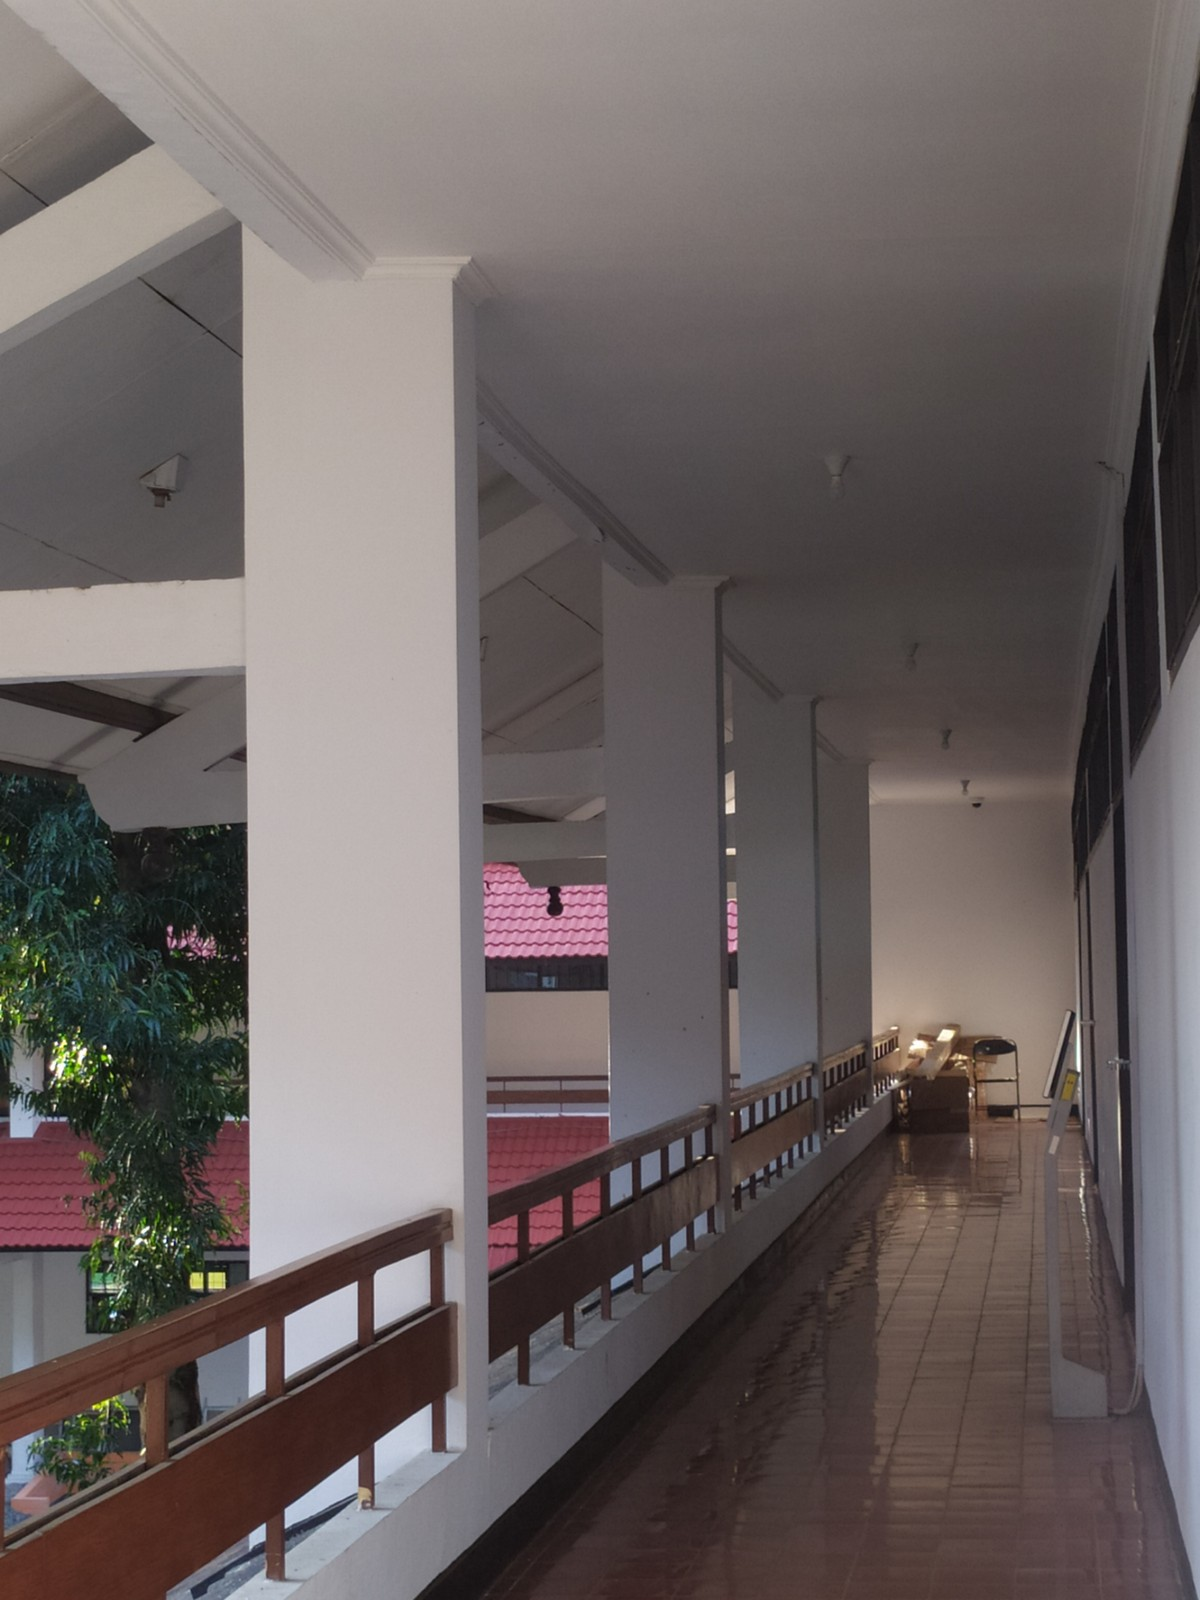concrete column: (229, 241, 505, 1456), (594, 551, 741, 1236), (727, 669, 839, 1150), (3, 564, 261, 694)
